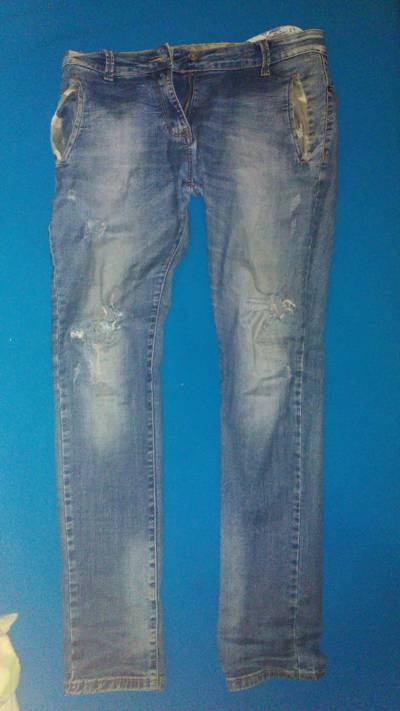Pants: (27, 19, 367, 692)
